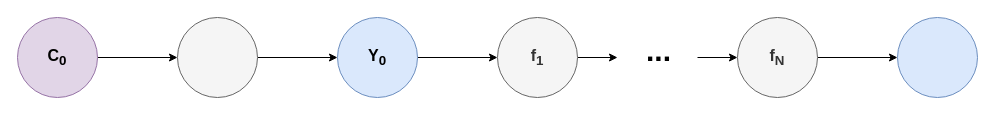
The diagram is 995 pixels wide and 115 high, and some of its shapes have lost their labels. The shapes that lost their labels are listed below. From the top down, each one's centre as x and y in pixels, then its label:
At (x=217, y=57): "f 0".
At (x=937, y=57): "Y N".
